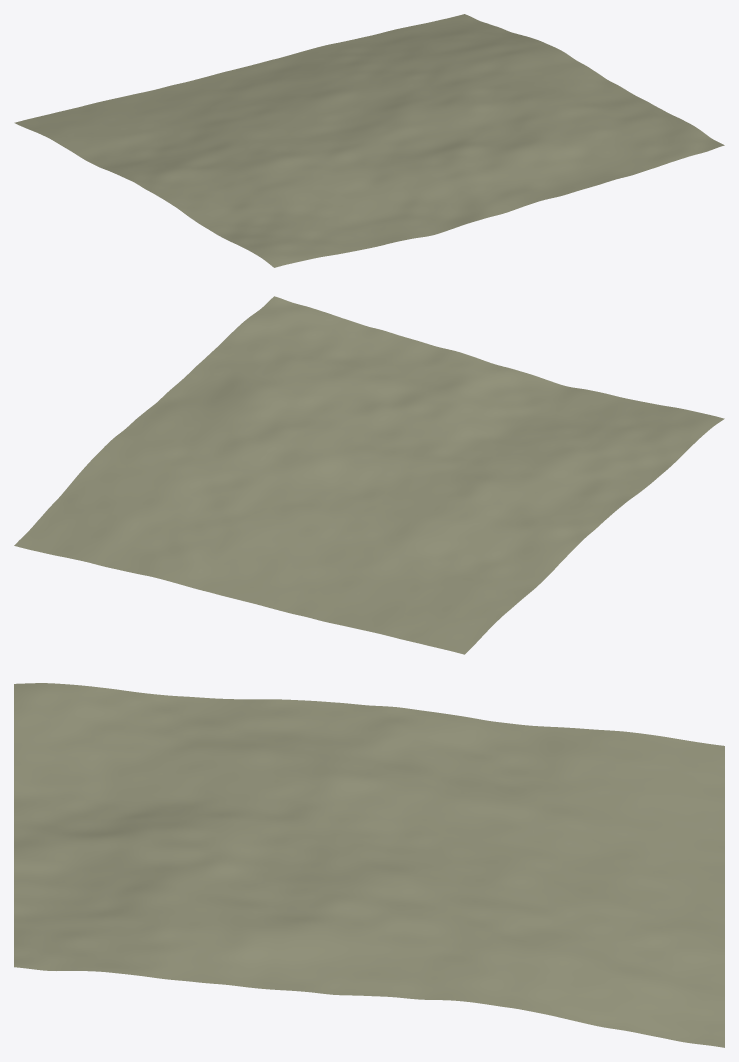
The model's file is SM_VB_Terrain_1_3.fbx.
3 renders of one model, top to bottom at view 1: azimuth 30°, elevation 25°; view 2: azimuth 150°, elevation 25°; view 3: azimuth 270°, elevation 25°, orthographic. The views are drawn at different scales.
Visible parts, largest first — view 1: SM_VB_Terrain_1_3; view 2: SM_VB_Terrain_1_3; view 3: SM_VB_Terrain_1_3.
Part boxes in pixels (<box>): SM_VB_Terrain_1_3: <box>14,14,724,267</box>; SM_VB_Terrain_1_3: <box>14,296,724,654</box>; SM_VB_Terrain_1_3: <box>14,683,724,1047</box>.
Size of the model in its own units: 400 by 50.26 by 400.
